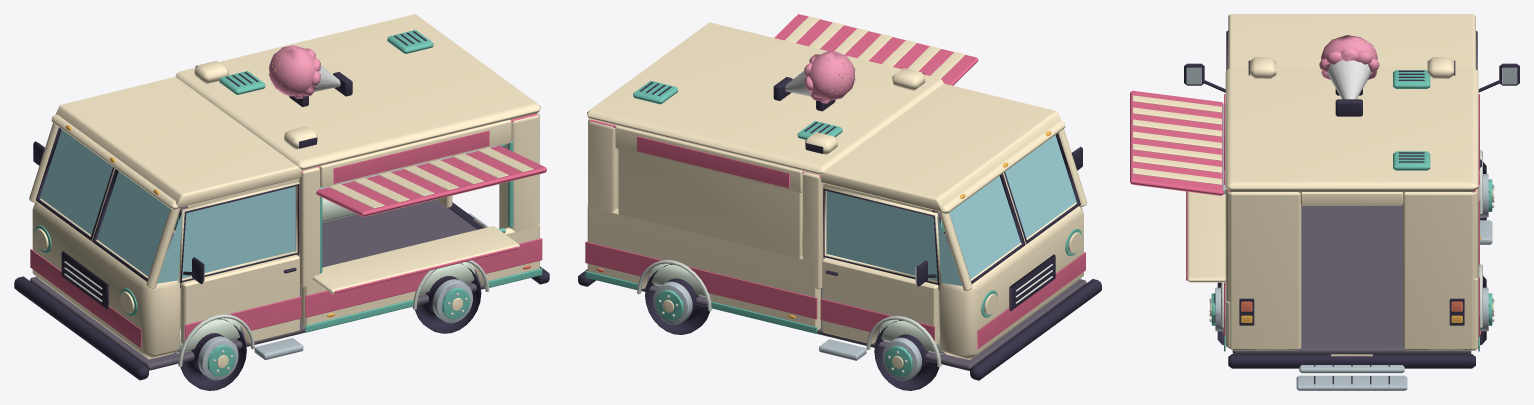
The model's file is Truck_shell.fbx.
The picture shows the model from 3 angles, left to right: view 1: azimuth 30°, elevation 25°; view 2: azimuth 150°, elevation 25°; view 3: azimuth 270°, elevation 25°; orthographic projection. The views are drawn at different scales.
Parts seen in each view (by area): view 1: Toon_Ice_cream_truck BodyShell_ROOT_Mesh.001, Toon_Ice_cream_truck Roof_ROOT_Mesh.001, Toon_Ice_cream_truck DriverDoor_HINGE_Mesh.001, Toon_Ice_cream_truck Chassis_ROOT_Mesh.001, Toon_Ice_cream_truck ServingHatch_HINGE_Mesh.001, Toon_Ice_cream_truck ServiceLedge_ROOT_Mesh.001, Toon_Ice_cream_truck FrontLeft_Wheel_AXLE_Mesh.001, Toon_Ice_cream_truck RearLeft_Wheel_AXLE_Mesh.001, Toon_Ice_cream_truck RoofSign_IceCreamScoop_Mesh.001, Toon_Ice_cream_truck IceCreamTruck_ROOT_Mesh.003, Toon_Ice_cream_truck IceCreamTruck_ROOT_Mesh.004; view 2: Toon_Ice_cream_truck BodyShell_ROOT_Mesh.001, Toon_Ice_cream_truck Roof_ROOT_Mesh.001, Toon_Ice_cream_truck PassengerDoor_HINGE_Mesh.001, Toon_Ice_cream_truck ServingHatch_HINGE_Mesh.001, Toon_Ice_cream_truck Chassis_ROOT_Mesh.001, Toon_Ice_cream_truck RearRight_Wheel_AXLE_Mesh.001, Toon_Ice_cream_truck FrontRight_Wheel_AXLE_Mesh.001, Toon_Ice_cream_truck RoofSign_IceCreamScoop_Mesh.001, Toon_Ice_cream_truck IceCreamTruck_ROOT_Mesh.003; view 3: Toon_Ice_cream_truck BodyShell_ROOT_Mesh.001, Toon_Ice_cream_truck Roof_ROOT_Mesh.001, Toon_Ice_cream_truck Chassis_ROOT_Mesh.001, Toon_Ice_cream_truck ServingHatch_HINGE_Mesh.001, Toon_Ice_cream_truck ServiceLedge_ROOT_Mesh.001, Toon_Ice_cream_truck IceCreamTruck_ROOT_Mesh.005, Toon_Ice_cream_truck RoofSign_IceCreamScoop_Mesh.001, Toon_Ice_cream_truck IceCreamTruck_ROOT_Mesh.003, Toon_Ice_cream_truck RoofSign_FinishedCone_ROOT_Mesh.001, Toon_Ice_cream_truck RearRight_Wheel_AXLE_Mesh.001, Toon_Ice_cream_truck RearLeft_Wheel_AXLE_Mesh.001, Toon_Ice_cream_truck FrontRight_Wheel_AXLE_Mesh.001.
Boxes of the visible parts, bbox=[...] form: Toon_Ice_cream_truck BodyShell_ROOT_Mesh.001: bbox=[14, 77, 549, 380]; Toon_Ice_cream_truck Roof_ROOT_Mesh.001: bbox=[175, 14, 540, 173]; Toon_Ice_cream_truck DriverDoor_HINGE_Mesh.001: bbox=[177, 181, 301, 343]; Toon_Ice_cream_truck Chassis_ROOT_Mesh.001: bbox=[30, 197, 484, 370]; Toon_Ice_cream_truck ServingHatch_HINGE_Mesh.001: bbox=[316, 145, 546, 216]; Toon_Ice_cream_truck ServiceLedge_ROOT_Mesh.001: bbox=[312, 226, 519, 293]; Toon_Ice_cream_truck FrontLeft_Wheel_AXLE_Mesh.001: bbox=[180, 318, 246, 390]; Toon_Ice_cream_truck RearLeft_Wheel_AXLE_Mesh.001: bbox=[415, 263, 481, 333]; Toon_Ice_cream_truck RoofSign_IceCreamScoop_Mesh.001: bbox=[268, 45, 320, 98]; Toon_Ice_cream_truck IceCreamTruck_ROOT_Mesh.003: bbox=[33, 141, 303, 360]; Toon_Ice_cream_truck IceCreamTruck_ROOT_Mesh.004: bbox=[320, 141, 513, 273]; Toon_Ice_cream_truck BodyShell_ROOT_Mesh.001: bbox=[578, 83, 1101, 380]; Toon_Ice_cream_truck Roof_ROOT_Mesh.001: bbox=[587, 22, 943, 177]; Toon_Ice_cream_truck PassengerDoor_HINGE_Mesh.001: bbox=[820, 186, 942, 344]; Toon_Ice_cream_truck ServingHatch_HINGE_Mesh.001: bbox=[774, 14, 978, 85]; Toon_Ice_cream_truck Chassis_ROOT_Mesh.001: bbox=[641, 257, 1086, 370]; Toon_Ice_cream_truck RearRight_Wheel_AXLE_Mesh.001: bbox=[645, 264, 709, 334]; Toon_Ice_cream_truck FrontRight_Wheel_AXLE_Mesh.001: bbox=[874, 320, 940, 390]; Toon_Ice_cream_truck RoofSign_IceCreamScoop_Mesh.001: bbox=[804, 51, 855, 103]; Toon_Ice_cream_truck IceCreamTruck_ROOT_Mesh.003: bbox=[819, 146, 1082, 360]; Toon_Ice_cream_truck BodyShell_ROOT_Mesh.001: bbox=[1221, 14, 1482, 368]; Toon_Ice_cream_truck Roof_ROOT_Mesh.001: bbox=[1225, 57, 1478, 192]; Toon_Ice_cream_truck Chassis_ROOT_Mesh.001: bbox=[1232, 205, 1471, 353]; Toon_Ice_cream_truck ServingHatch_HINGE_Mesh.001: bbox=[1130, 90, 1225, 195]; Toon_Ice_cream_truck ServiceLedge_ROOT_Mesh.001: bbox=[1186, 191, 1225, 282]; Toon_Ice_cream_truck IceCreamTruck_ROOT_Mesh.005: bbox=[1296, 364, 1407, 390]; Toon_Ice_cream_truck RoofSign_IceCreamScoop_Mesh.001: bbox=[1319, 35, 1379, 79]; Toon_Ice_cream_truck IceCreamTruck_ROOT_Mesh.003: bbox=[1184, 63, 1519, 244]; Toon_Ice_cream_truck RoofSign_FinishedCone_ROOT_Mesh.001: bbox=[1327, 60, 1371, 99]; Toon_Ice_cream_truck RearRight_Wheel_AXLE_Mesh.001: bbox=[1480, 276, 1494, 345]; Toon_Ice_cream_truck RearLeft_Wheel_AXLE_Mesh.001: bbox=[1209, 282, 1223, 345]; Toon_Ice_cream_truck FrontRight_Wheel_AXLE_Mesh.001: bbox=[1480, 162, 1494, 220].
Size of the model in its own units: 782 by 452 by 613.
